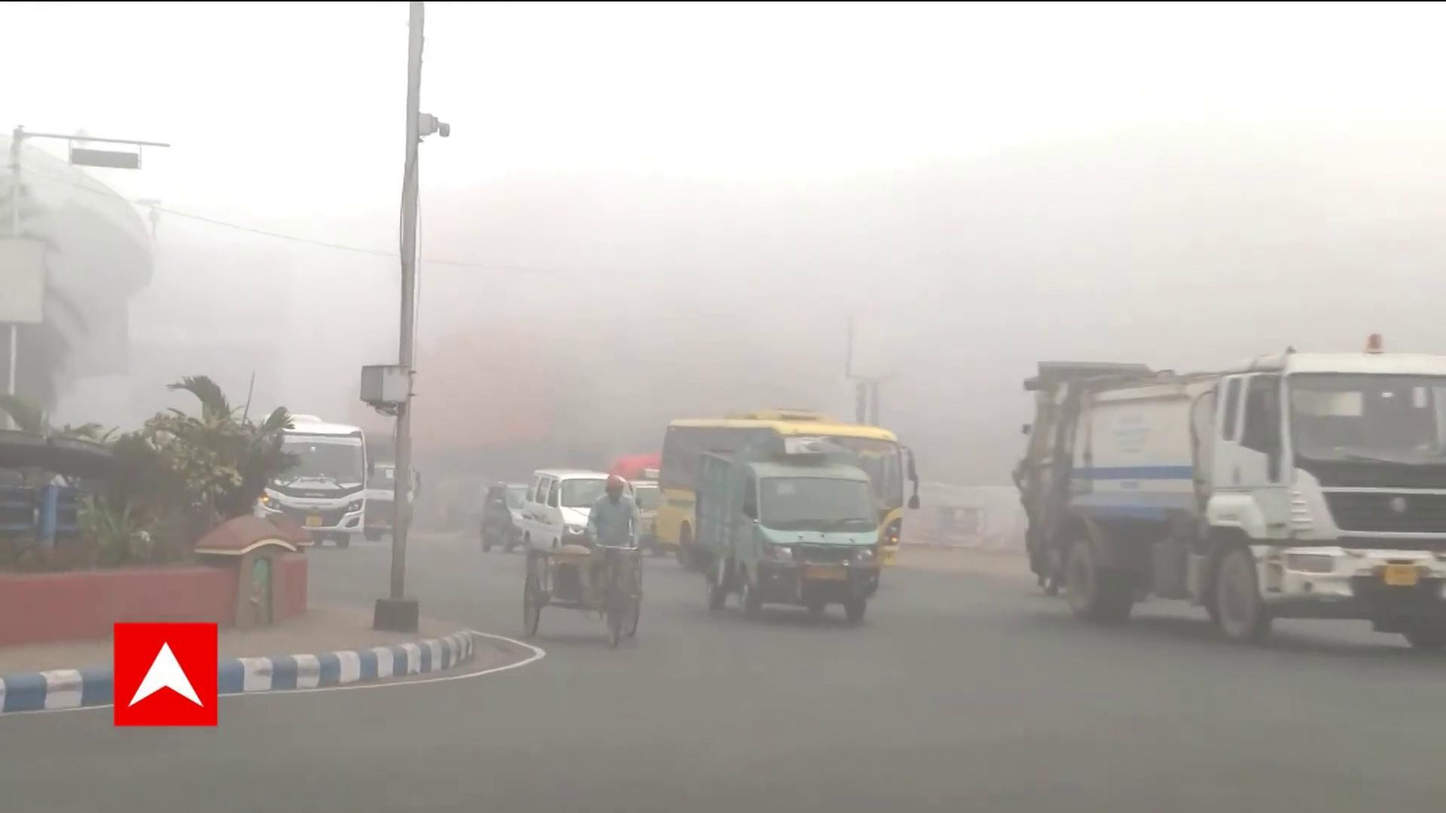Bus: (653, 407, 909, 569)
Car: (514, 461, 631, 563)
Truck: (999, 344, 1446, 654), (677, 442, 835, 584)
